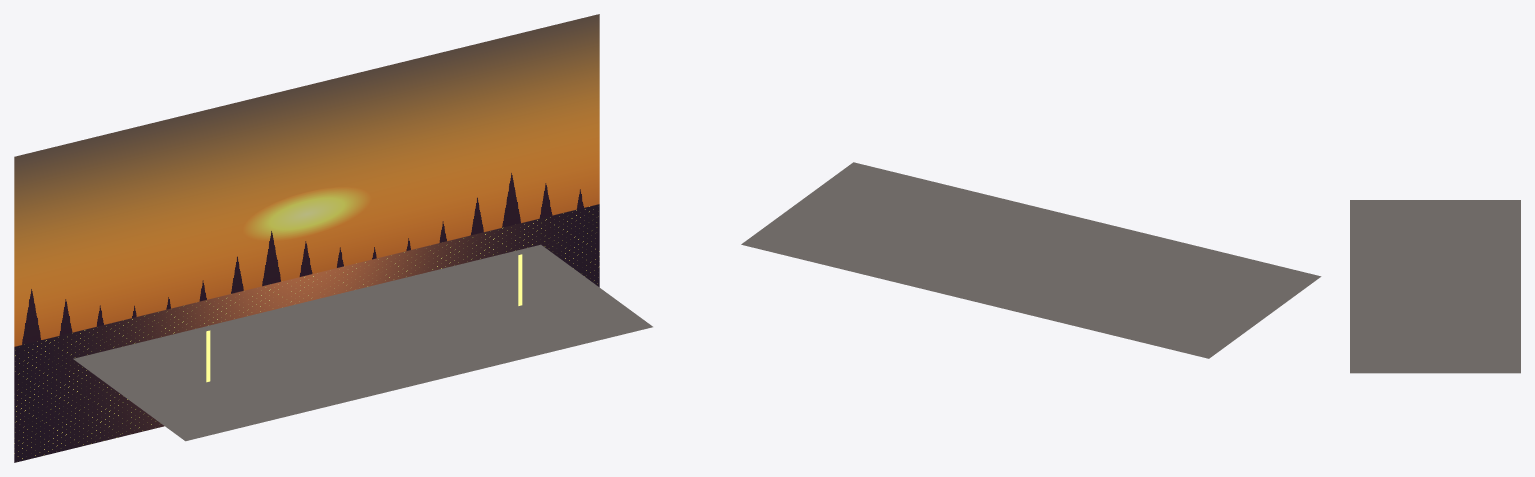
The model's file is stage_riverfront_sunset.glb.
3 renders of one model, left to right at view 1: azimuth 30°, elevation 25°; view 2: azimuth 150°, elevation 25°; view 3: azimuth 270°, elevation 25°, orthographic. The views are drawn at different scales.
Visible parts, largest first — view 1: FOF_StageBackdrop, FOF_FightingFloor; view 2: FOF_FightingFloor; view 3: FOF_FightingFloor.
Part boxes in pixels (x1,y1,x2,y2): FOF_StageBackdrop: [14, 14, 599, 462]; FOF_FightingFloor: [73, 244, 652, 441]; FOF_FightingFloor: [741, 162, 1321, 358]; FOF_FightingFloor: [1350, 200, 1520, 373].
Size of the model in its own units: 60 by 30 by 20.
3 materials, 1 textured.
